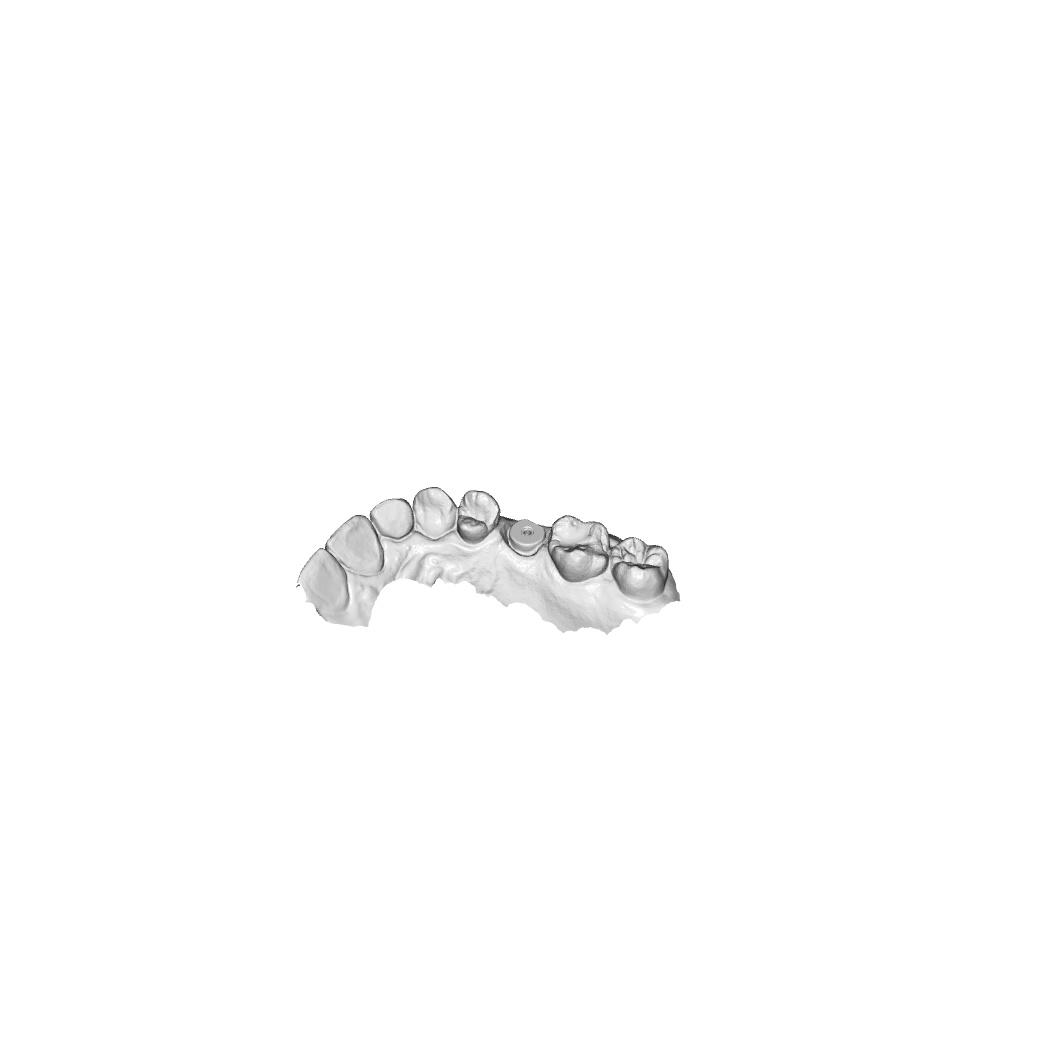canine: (412, 486, 456, 541)
implant: (505, 518, 546, 555)
incisor: (323, 513, 385, 576), (297, 545, 351, 617), (369, 497, 415, 540)
molar: (546, 514, 611, 583), (609, 535, 671, 599)
premolar: (456, 489, 502, 544)
